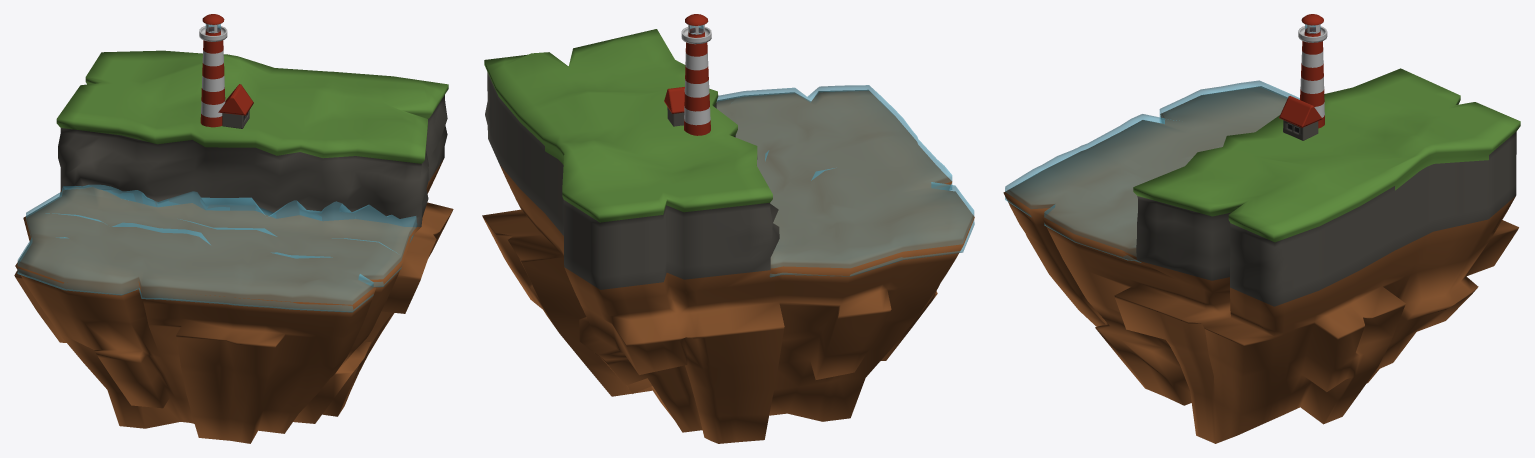
The model's file is Cliff.glb.
3 views of the same model, side by side, from view 1: azimuth 30°, elevation 25°; view 2: azimuth 150°, elevation 25°; view 3: azimuth 270°, elevation 25° (orthographic). The views are drawn at different scales.
Visible parts, largest first — view 1: Cube.010, Cube.011, Cylinder.008, Cube.013; view 2: Cube.010, Cube.011, Cylinder.008, Cube.013; view 3: Cube.010, Cube.011, Cylinder.008, Cube.013.
Boxes of the visible parts, x1,y1,x2,y2 form: Cube.010: (14,50,453,443); Cube.011: (17,185,417,312); Cylinder.008: (199,14,227,127); Cube.013: (218,84,253,115); Cube.010: (482,29,974,443); Cube.011: (716,85,974,277); Cylinder.008: (681,14,711,135); Cube.013: (664,87,684,113); Cube.010: (1003,68,1520,443); Cube.011: (1005,80,1299,262); Cylinder.008: (1298,14,1327,128); Cube.013: (1279,96,1322,127).
Bounding box in the file's own units: 6.36 × 5.27 × 6.31.
